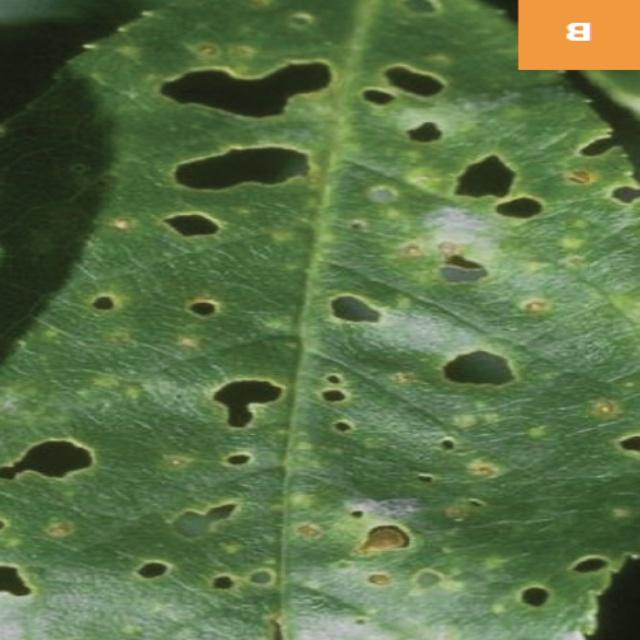shot_hole: (0, 1, 637, 638), (1, 70, 628, 640)
